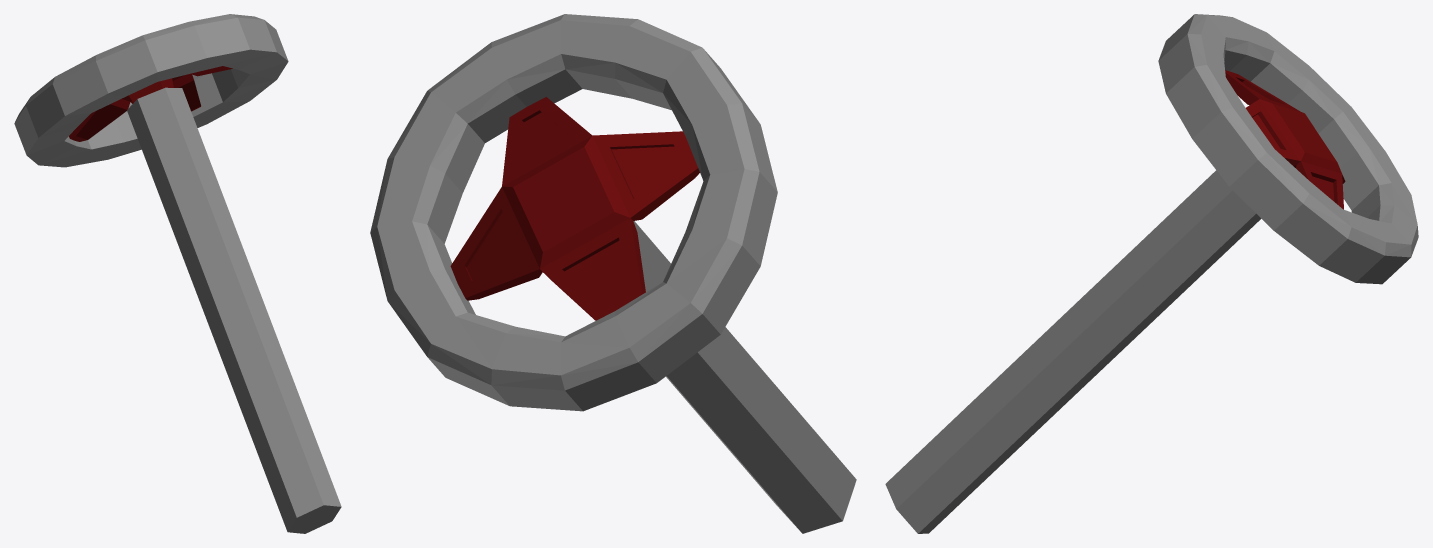
File: SteeringWheel4.obj
The picture shows the model from 3 angles, left to right: view 1: azimuth 30°, elevation 25°; view 2: azimuth 150°, elevation 25°; view 3: azimuth 270°, elevation 25°; orthographic projection. The views are drawn at different scales.
Parts seen in each view (by area): view 1: SteeringWheel4_Cylinder; view 2: SteeringWheel4_Cylinder; view 3: SteeringWheel4_Cylinder.
Part boxes in pixels (<box>): SteeringWheel4_Cylinder: <box>14,14,341,533</box>; SteeringWheel4_Cylinder: <box>370,14,856,533</box>; SteeringWheel4_Cylinder: <box>885,14,1418,533</box>.
Size of the model in its own units: 2 by 3.42 by 3.31.
